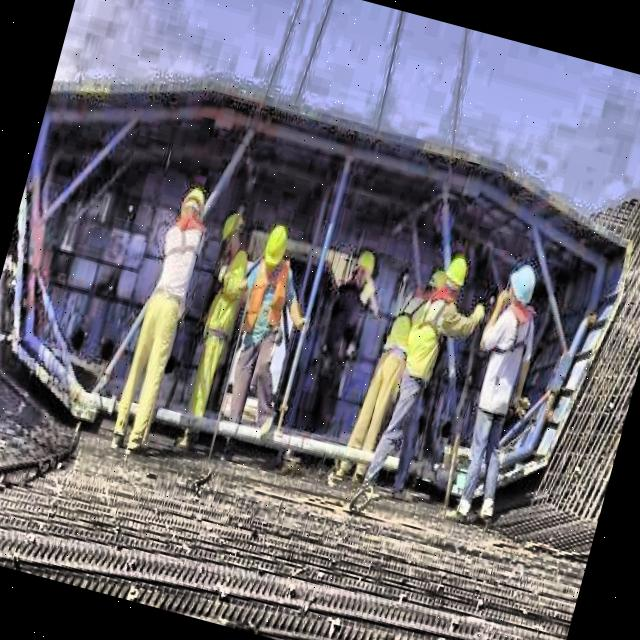helmet: (500, 261, 540, 314), (258, 218, 296, 272), (177, 181, 210, 232), (438, 253, 471, 300), (351, 248, 378, 286)
